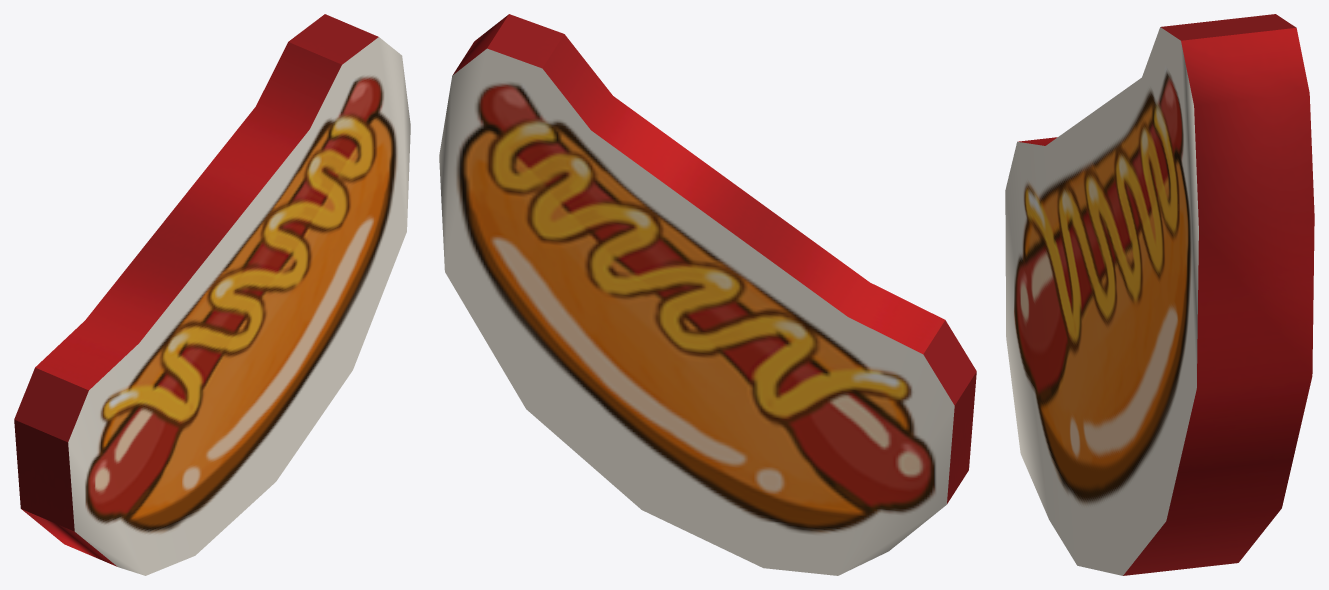
File: Tx_Interior_Work_Hotdog_Icon.fbx
The picture shows the model from 3 angles, left to right: view 1: azimuth 30°, elevation 25°; view 2: azimuth 150°, elevation 25°; view 3: azimuth 270°, elevation 25°; orthographic projection. The views are drawn at different scales.
Visible parts, largest first — view 1: HotdogIcon; view 2: HotdogIcon; view 3: HotdogIcon.
Part boxes in pixels (<box>): HotdogIcon: <box>14,14,410,575</box>; HotdogIcon: <box>439,14,976,575</box>; HotdogIcon: <box>1005,14,1314,575</box>.
Size of the model in its own units: 1.81 by 1.81 by 0.7366.
